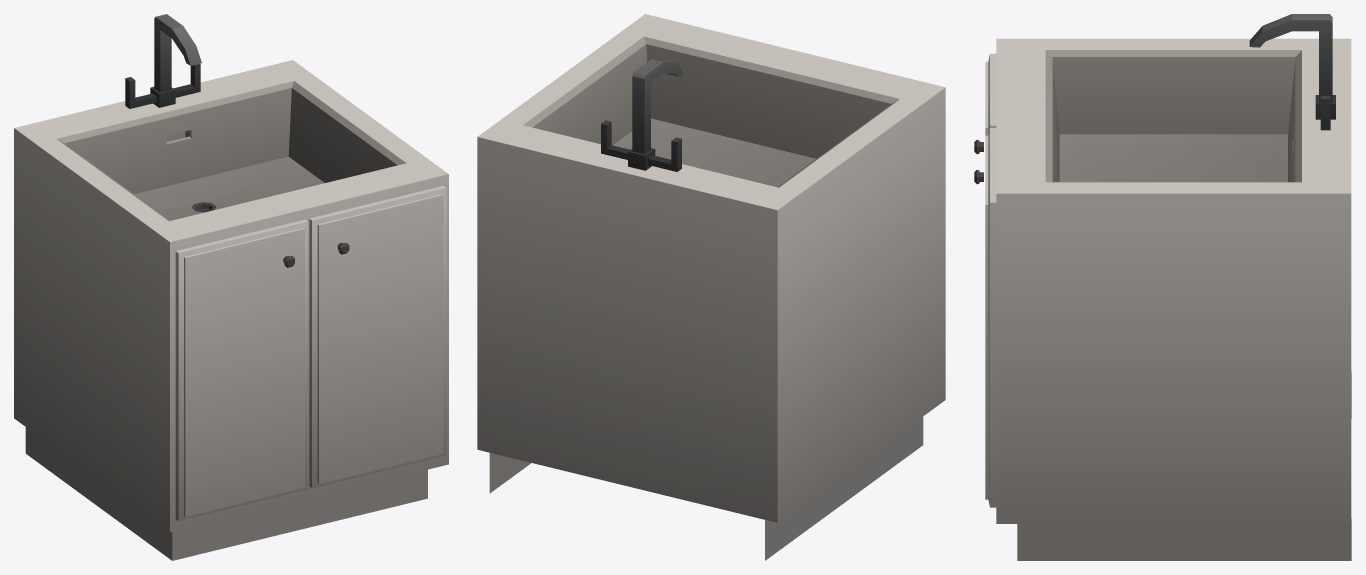
Rendered from Unit_SinkBase.fbx.
The picture shows the model from 3 angles, left to right: view 1: azimuth 30°, elevation 25°; view 2: azimuth 150°, elevation 25°; view 3: azimuth 270°, elevation 25°; orthographic projection. The views are drawn at different scales.
Visible parts, largest first — view 1: Unit_SinkBase; view 2: Unit_SinkBase; view 3: Unit_SinkBase.
Boxes of the visible parts, x1,y1,x2,y2 form: Unit_SinkBase: [14, 14, 448, 560]; Unit_SinkBase: [477, 14, 945, 560]; Unit_SinkBase: [974, 14, 1351, 560].
Size of the model in its own units: 80 by 114 by 82.34.
